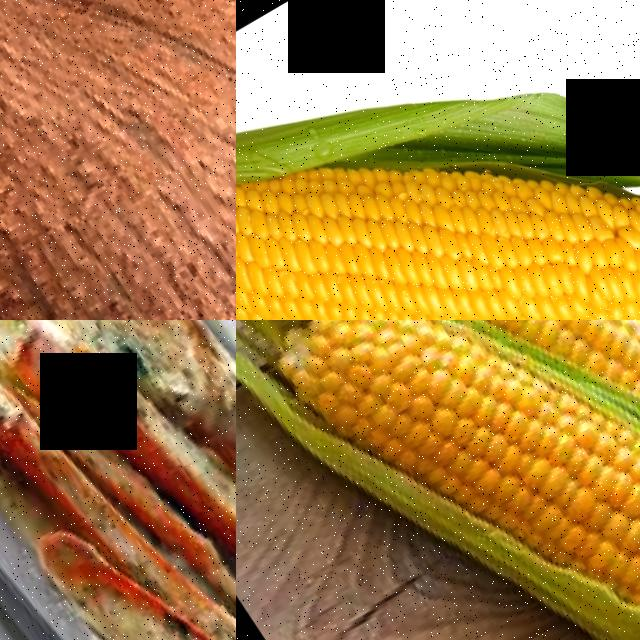coconut: (0, 0, 236, 320)
corn: (236, 0, 640, 320), (243, 320, 636, 597), (509, 408, 640, 640), (490, 320, 640, 477)
